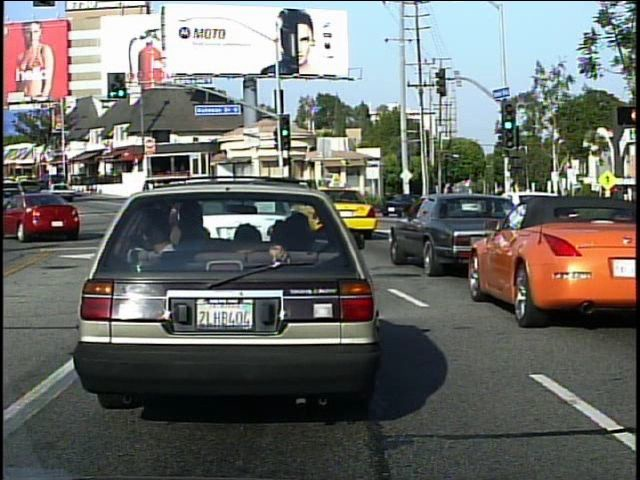person: (443, 184, 465, 228), (344, 181, 363, 220)
